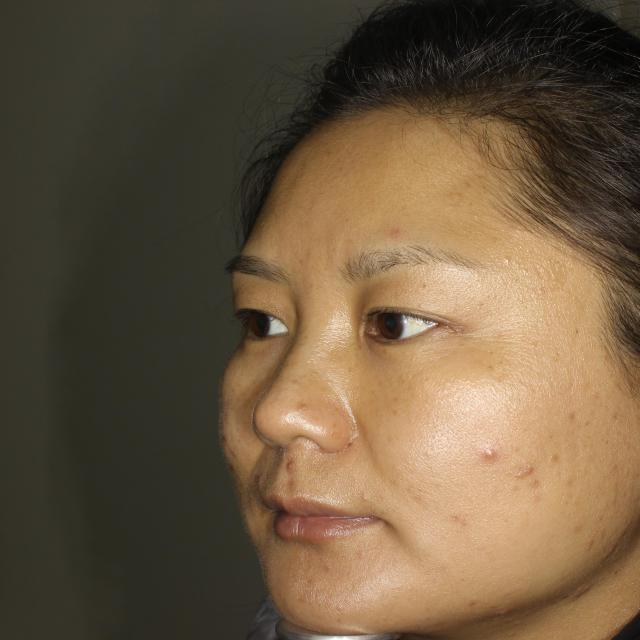acne: (511, 450, 546, 487), (476, 433, 508, 470)
